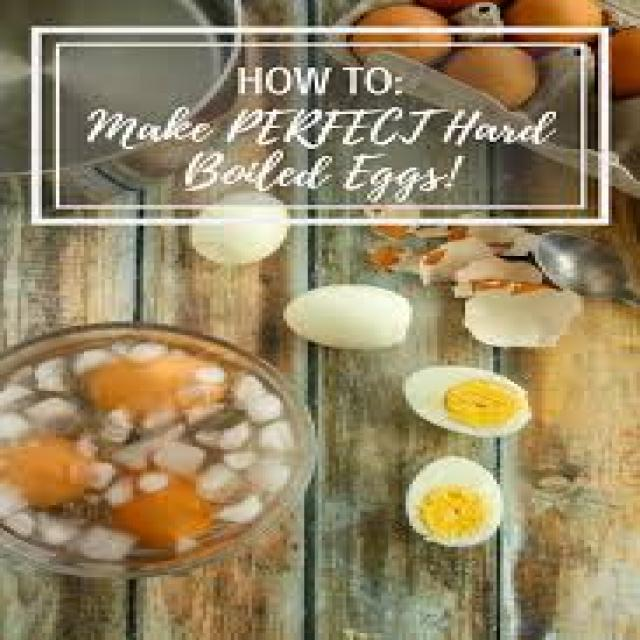boiled egg: (403, 366, 531, 437), (406, 457, 503, 546), (284, 284, 412, 351), (189, 191, 290, 265), (494, 401, 535, 425)
